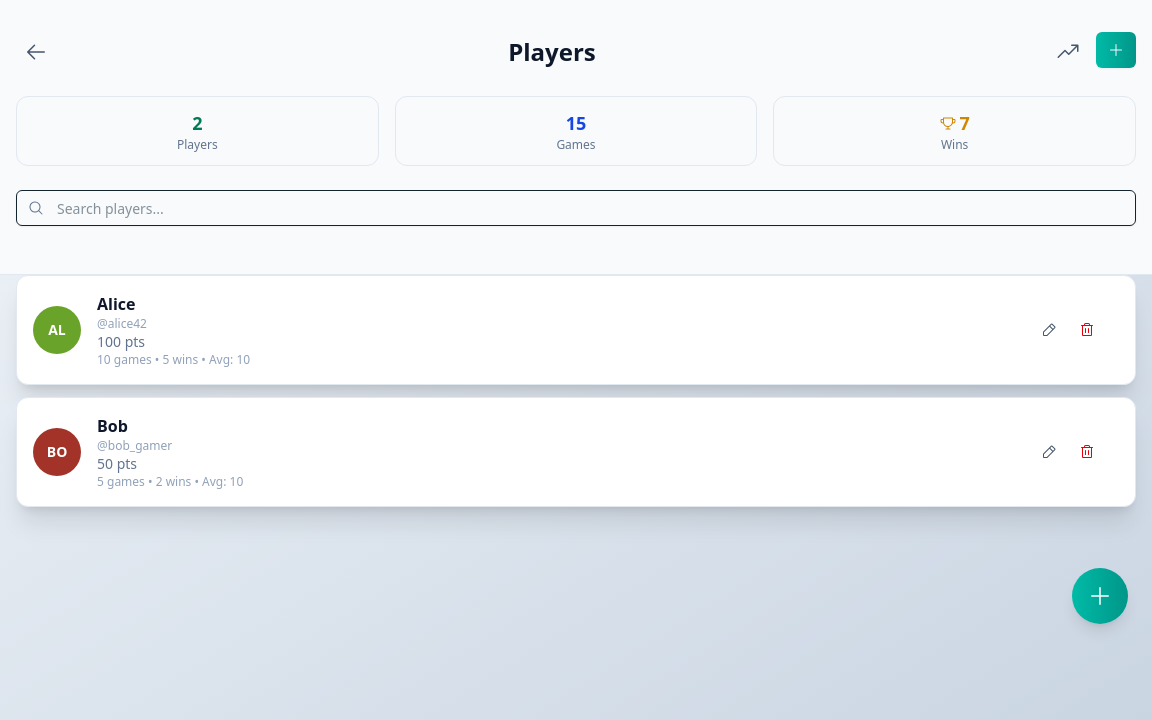
Scenario: PlayersPage — flux CRUD › pseudo dupliqué affiche le message d'erreur dans le dialog
The image size is (1152, 720).
Check: the text "Alice" is shown, box [97,293,136,315]
Click the button named "add new player": [1100, 596] box [1072,568,1128,624]
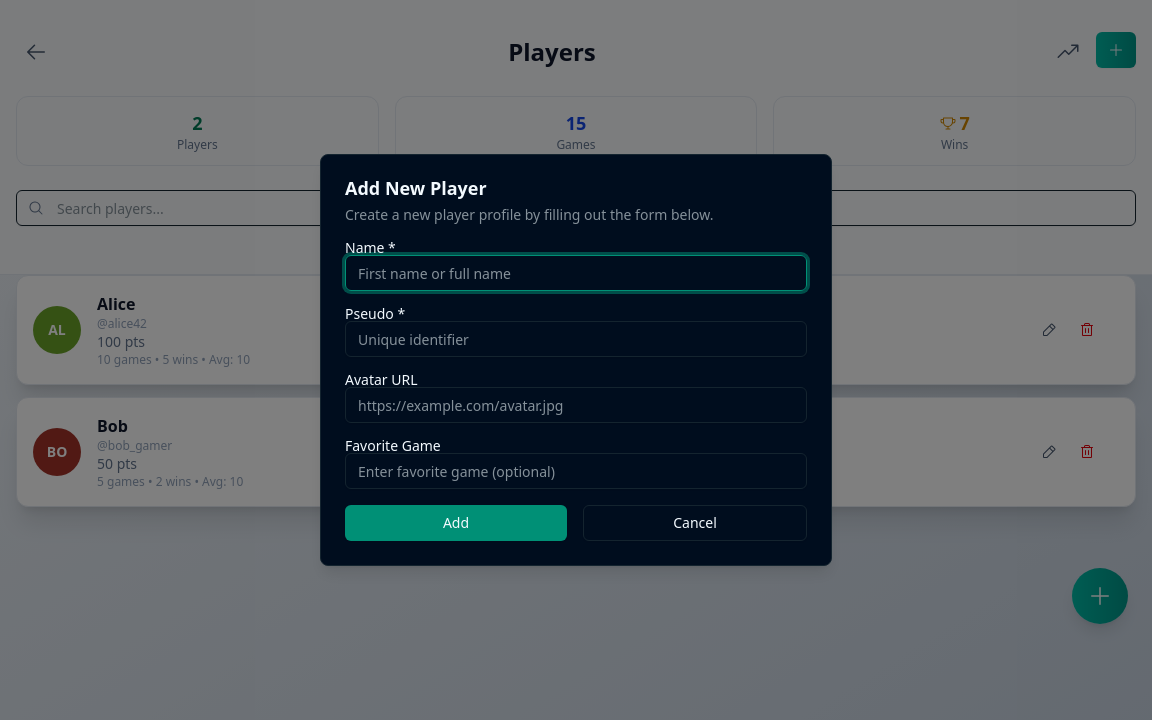
Check: the dialog is shown, box [320,154,832,566]
In the field labelled "Name *": [576, 273] box [345,255,807,291], type "Alice2"
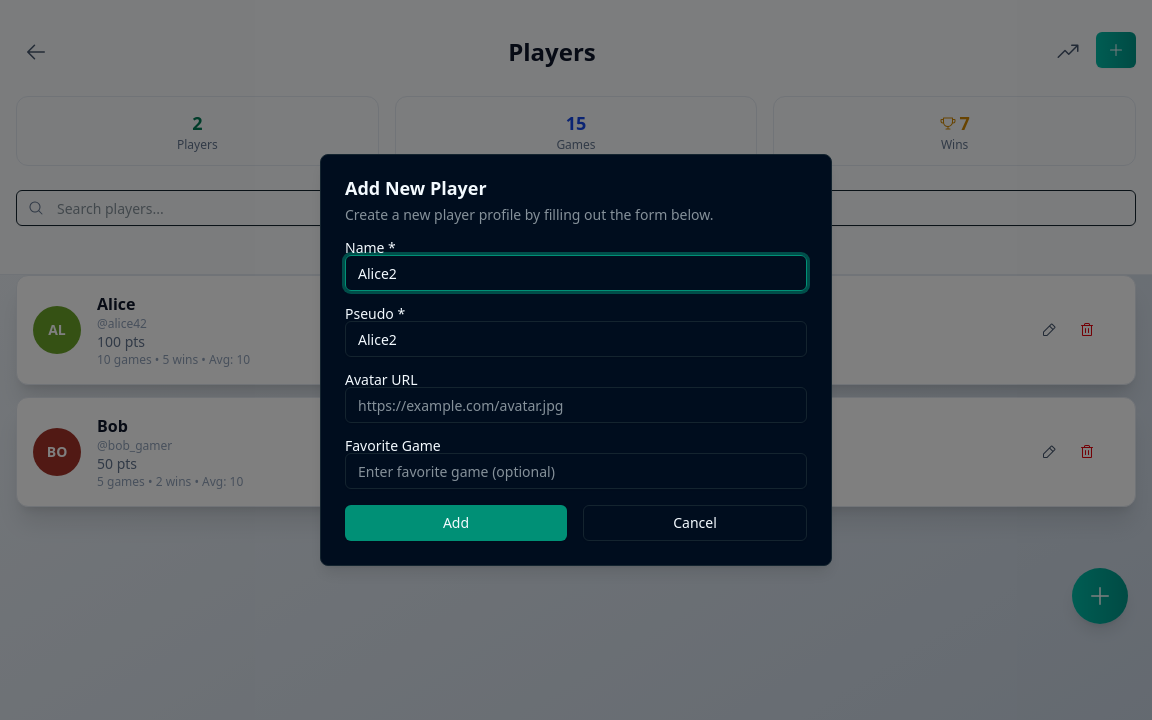
Replace the text in the field labelled "Pseudo *" with "alice42": [576, 339] box [345,321,807,357]
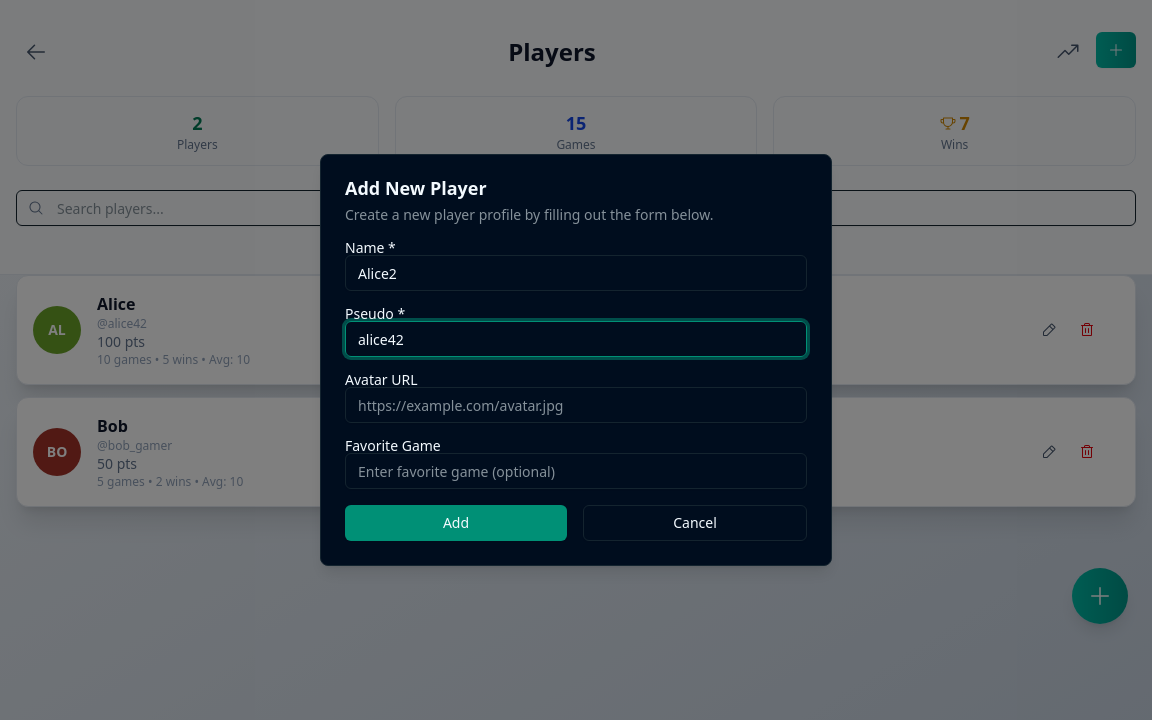
Click the button "Add": [456, 523] box [345,505,567,541]
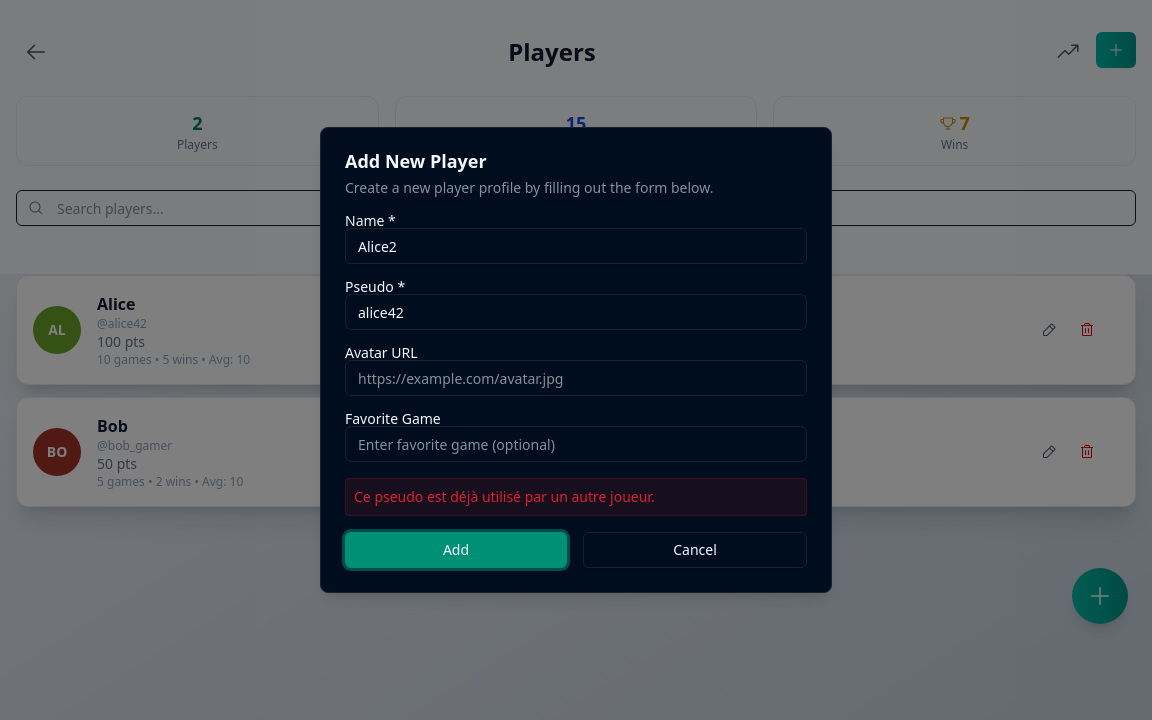
Check: the text "Ce pseudo est déjà utilisé par un autre joueur." is shown, box [345,478,807,516]
